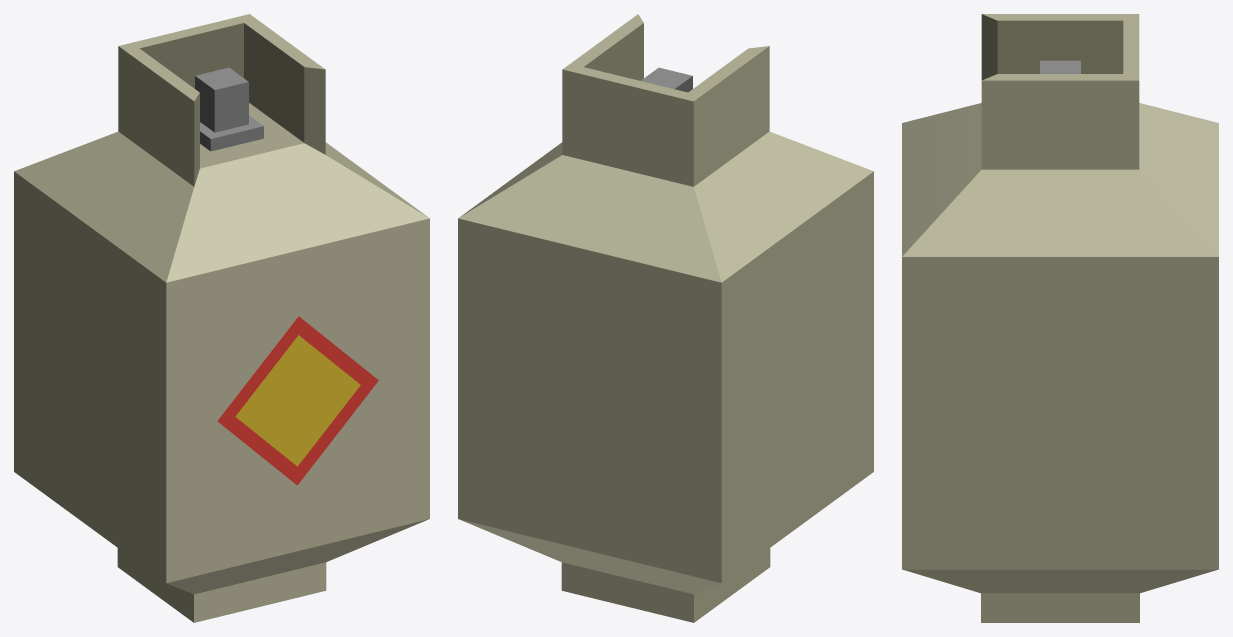
File: SA_Prop_GasBottle_02.glb
3 views of the same model, side by side, from view 1: azimuth 30°, elevation 25°; view 2: azimuth 150°, elevation 25°; view 3: azimuth 270°, elevation 25° (orthographic). The views are drawn at different scales.
Parts seen in each view (by area): view 1: SA_Prop_GasBottle_02; view 2: SA_Prop_GasBottle_02; view 3: SA_Prop_GasBottle_02.
Boxes of the visible parts, left/top/right/bottom form: SA_Prop_GasBottle_02: left=14, top=14, right=429, bottom=622; SA_Prop_GasBottle_02: left=458, top=14, right=873, bottom=622; SA_Prop_GasBottle_02: left=902, top=14, right=1218, bottom=622.
Bounding box in the file's own units: 0.2324 × 0.4389 × 0.2324.
Materials: 1 (1 with a texture image).
